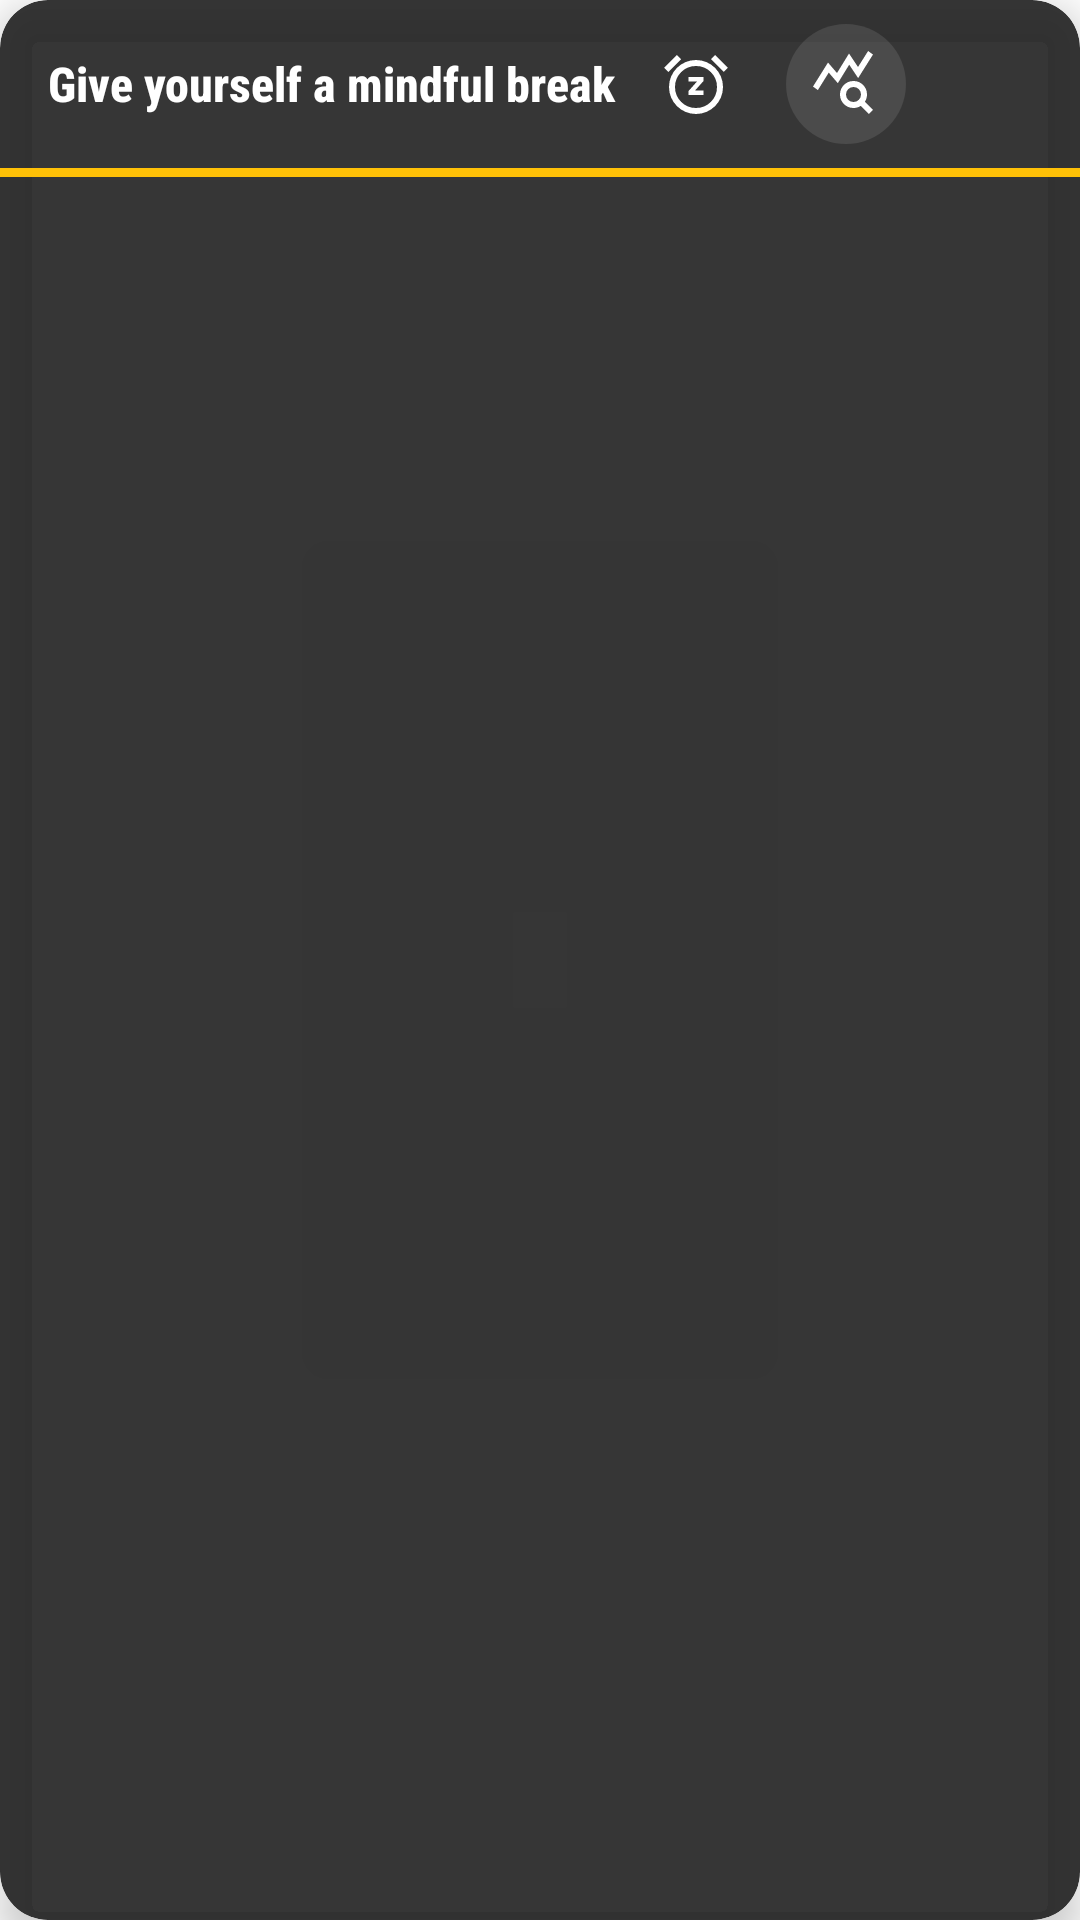

Where to tap for icons on this 1080w x 1920h app screen, as [x,y]:
Snooze: [696,84]
Usage: [846,84]
